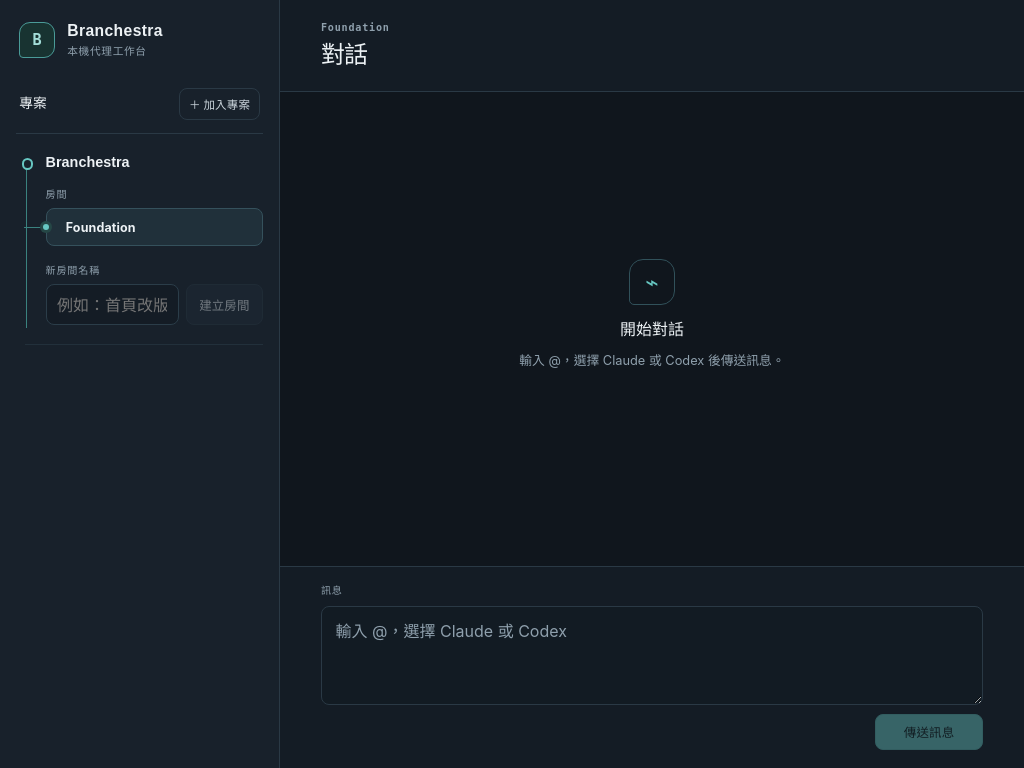
Test case: renderer shell › retains the App composer draft when the real store receives a failed post response
The width and height of the screenshot is (1024, 768).
Type "Keep this through the real store" into the text box with test id "message-input". click: (652, 655)
box: [321, 606, 983, 705]
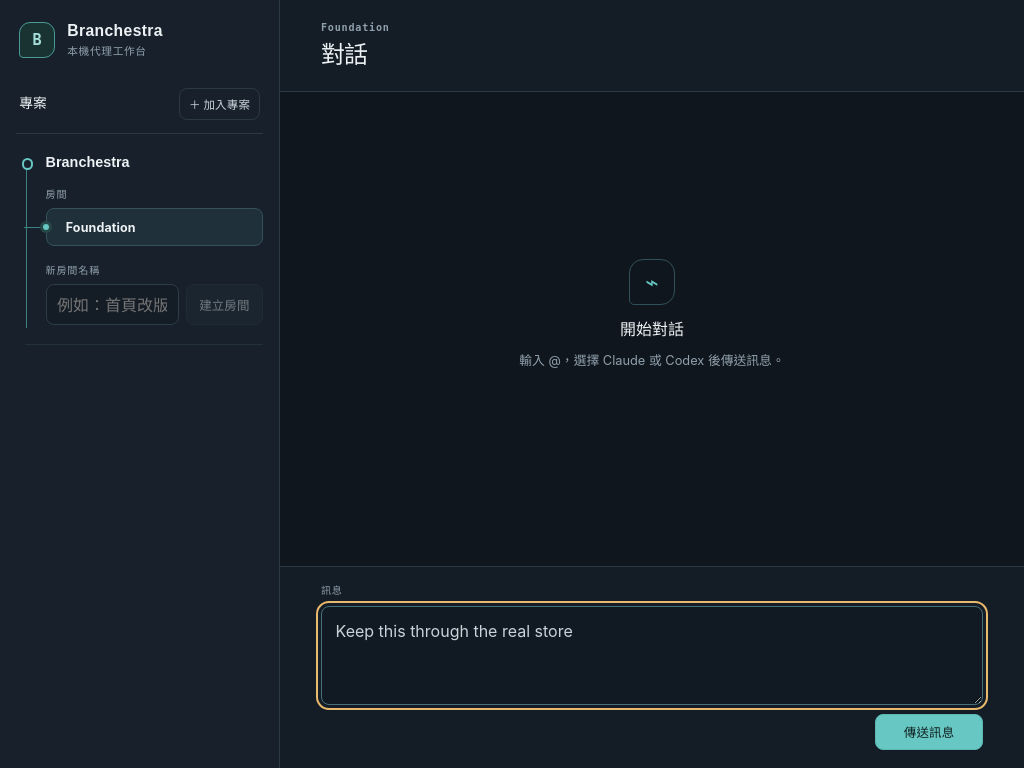
Click the button with test id "send-message". click: (929, 732)
box: [875, 714, 983, 750]
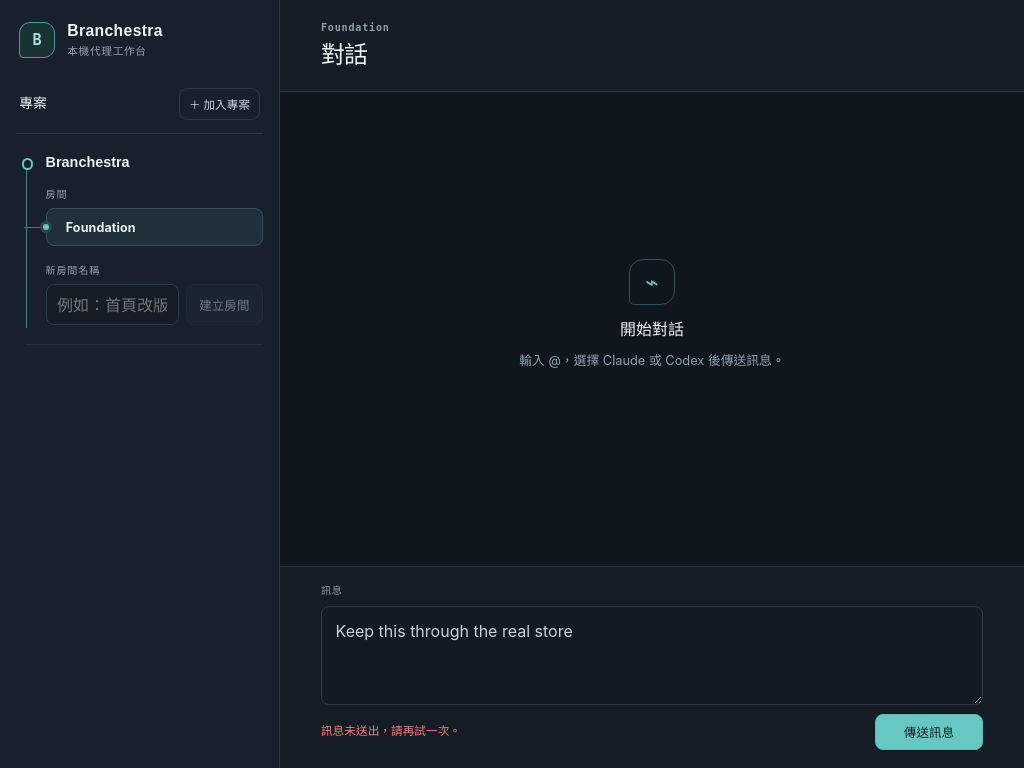
Result: the text "訊息未送出，請再試一次。" is shown at [321, 723, 461, 740]
